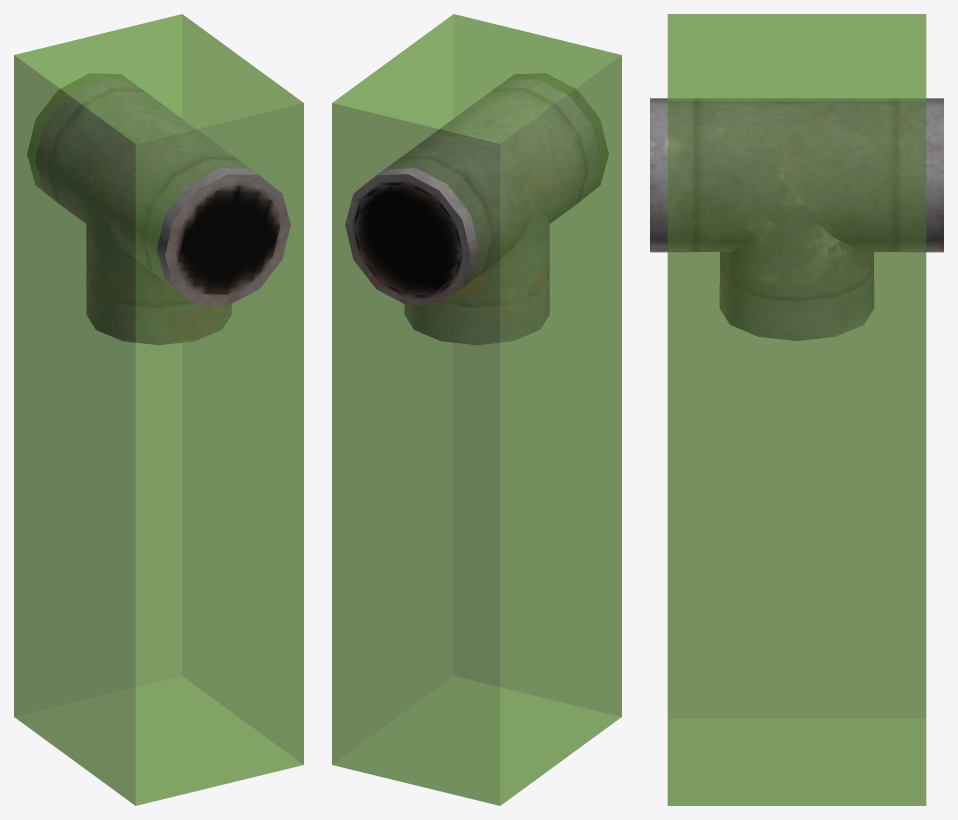
Rendered from p_PipeTConnector_01_a.fbx.
3 views of the same model, side by side, from view 1: azimuth 30°, elevation 25°; view 2: azimuth 150°, elevation 25°; view 3: azimuth 270°, elevation 25° (orthographic). The views are drawn at different scales.
Visible parts, largest first — view 1: p_PipeTConnector_01_a_col_01, p_PipeTConnector_01_a_LOD0; view 2: p_PipeTConnector_01_a_col_01, p_PipeTConnector_01_a_LOD0; view 3: p_PipeTConnector_01_a_col_01, p_PipeTConnector_01_a_LOD0.
Part boxes in pixels (box(x1,y1,x2,y2)): p_PipeTConnector_01_a_col_01: box(14, 14, 303, 805); p_PipeTConnector_01_a_LOD0: box(27, 73, 290, 345); p_PipeTConnector_01_a_col_01: box(332, 14, 621, 805); p_PipeTConnector_01_a_LOD0: box(345, 73, 608, 345); p_PipeTConnector_01_a_col_01: box(667, 14, 926, 805); p_PipeTConnector_01_a_LOD0: box(650, 98, 943, 340).
Size of what is drawn, in the model's own units: 3.83 by 14.4 by 5.44.
